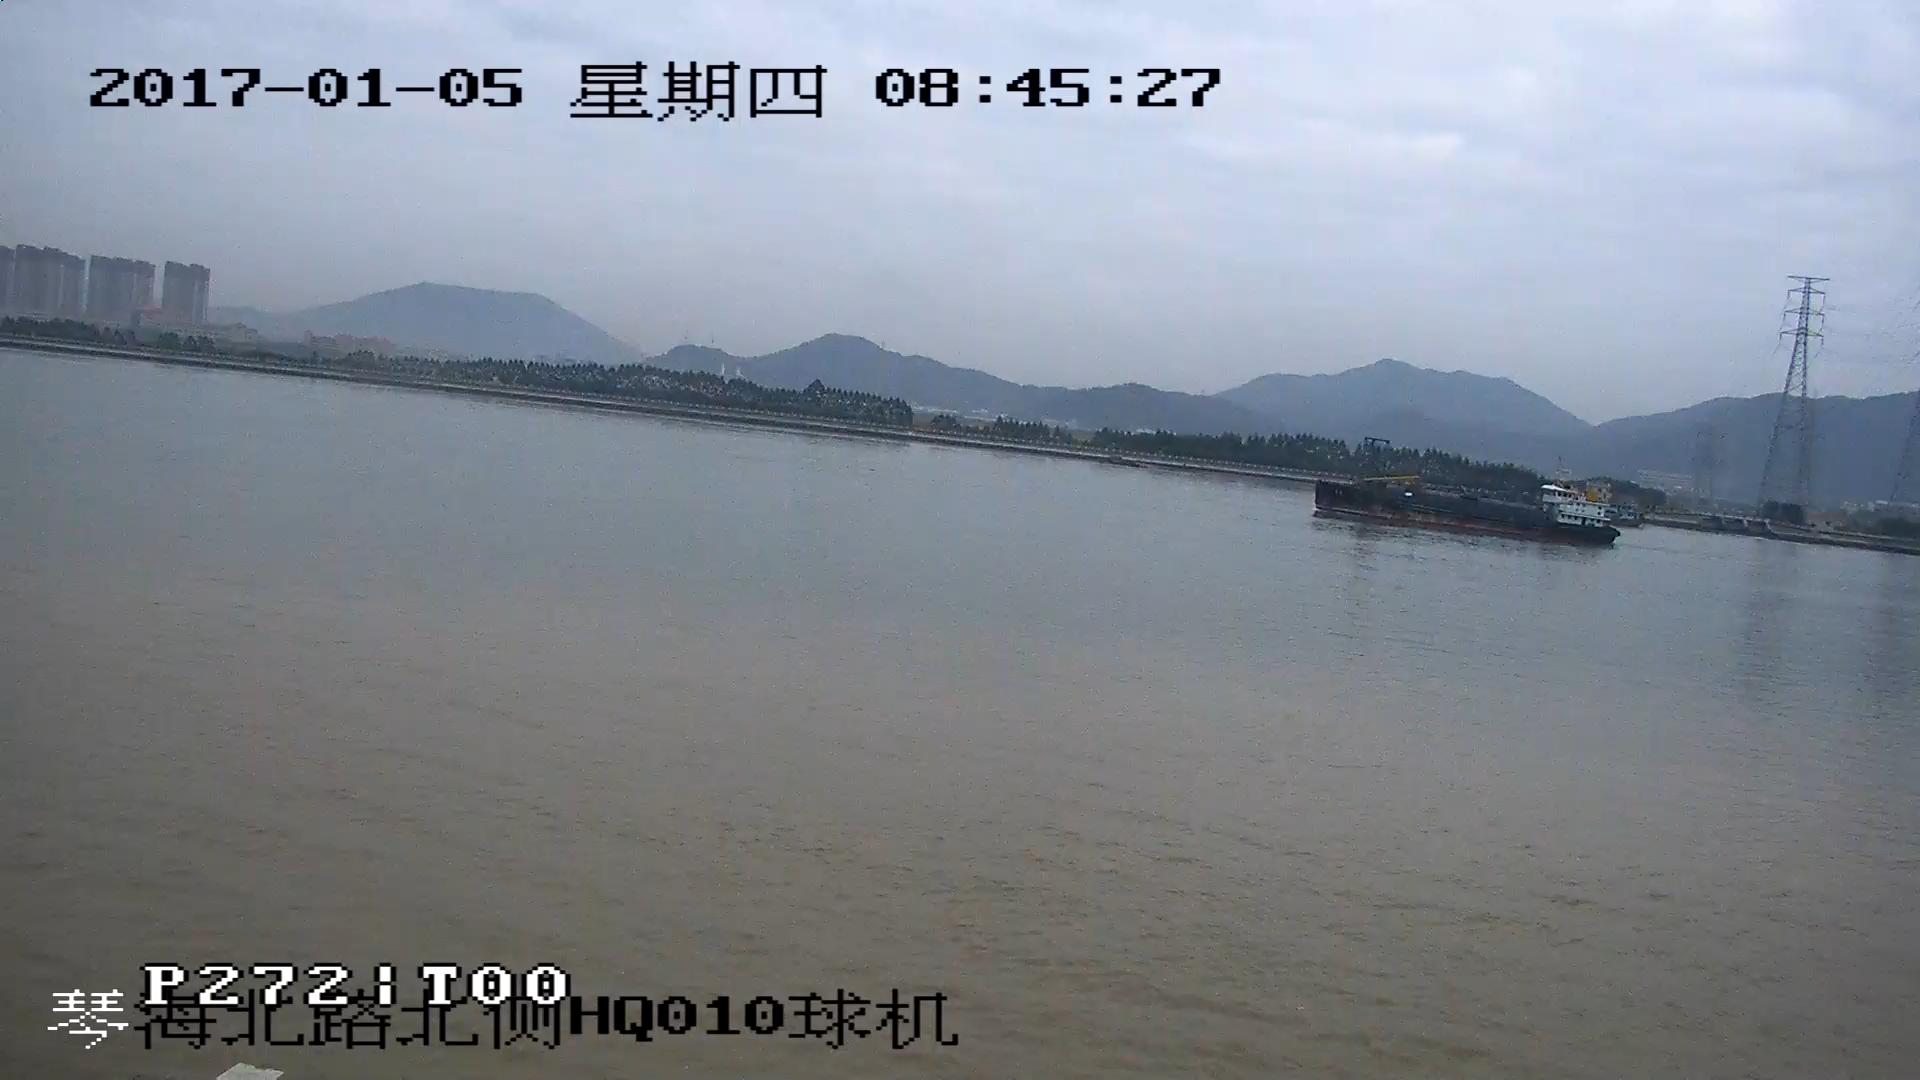bulk cargo carrier: (1321, 446, 1606, 541)
